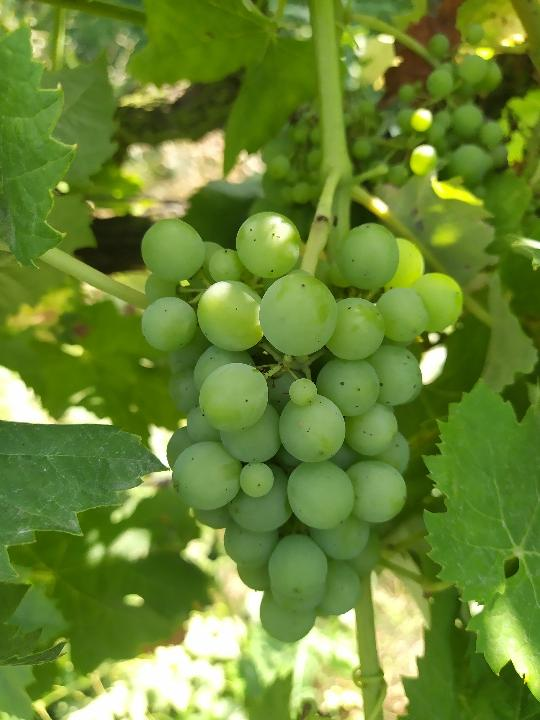grape: (139, 210, 466, 646)
